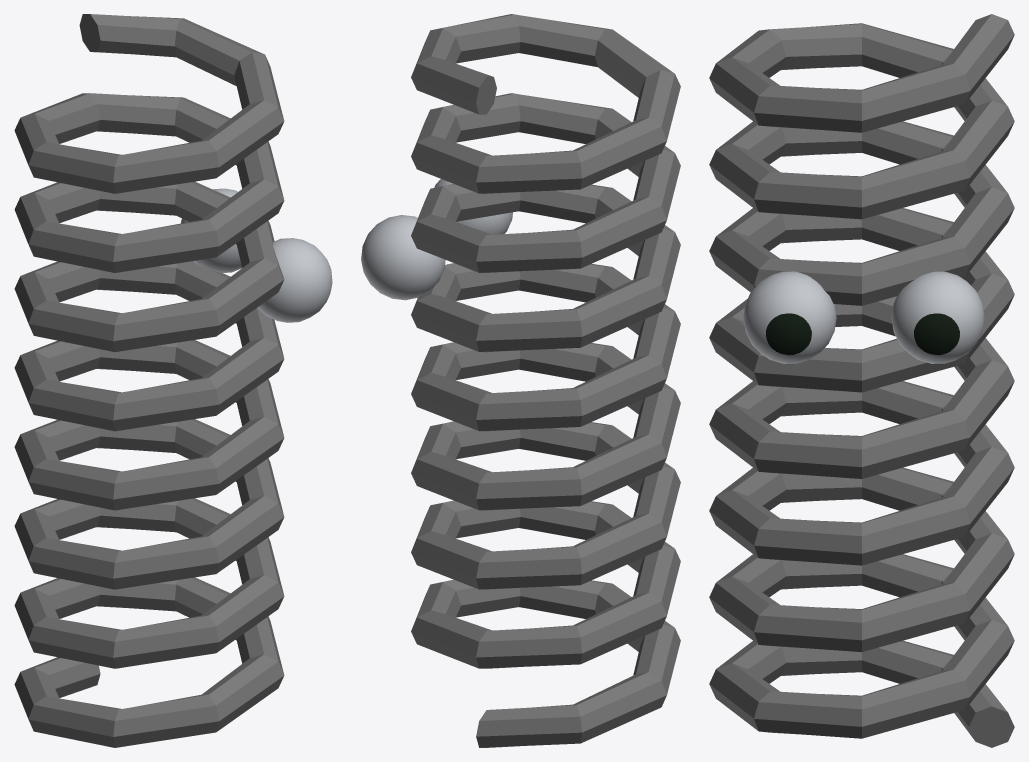
The model's file is Spring (1).glb.
3 views of the same model, side by side, from view 1: azimuth 30°, elevation 25°; view 2: azimuth 150°, elevation 25°; view 3: azimuth 270°, elevation 25° (orthographic). The views are drawn at different scales.
Visible parts, largest first — view 1: Spring, Spring Eyes; view 2: Spring, Spring Eyes; view 3: Spring, Spring Eyes.
Boxes of the visible parts, <box> form: Spring: <box>14,14,284,747</box>; Spring Eyes: <box>181,188,332,322</box>; Spring: <box>411,14,680,747</box>; Spring Eyes: <box>361,179,512,300</box>; Spring: <box>709,14,1014,747</box>; Spring Eyes: <box>743,271,984,363</box>.
Size of the model in its own units: 0.8582 by 2.07 by 0.7819.
2 materials, 1 textured.
